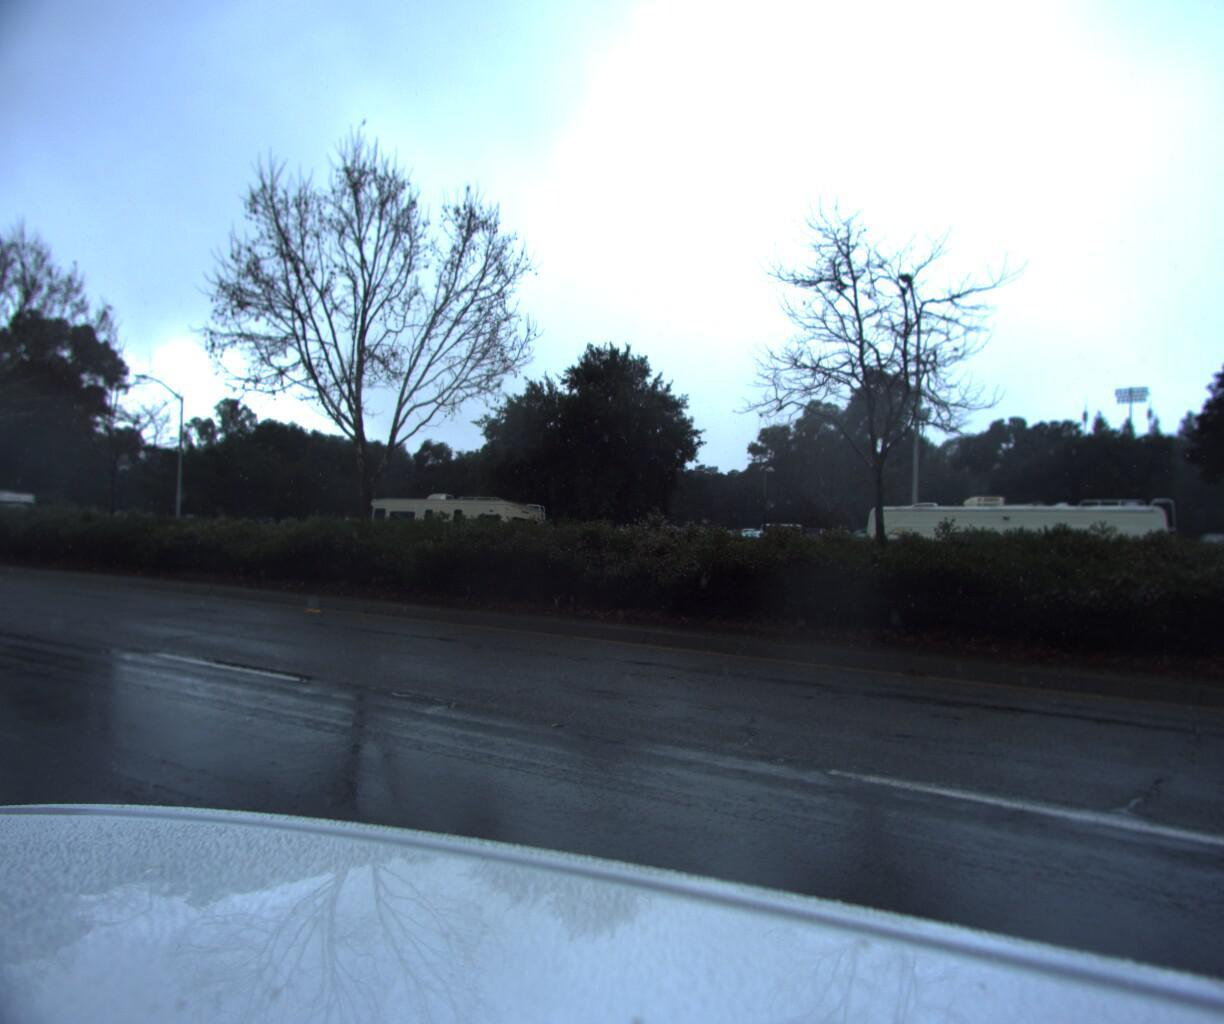car: (592, 517, 658, 550)
other_vehicle: (849, 483, 1196, 624), (347, 488, 553, 578)
